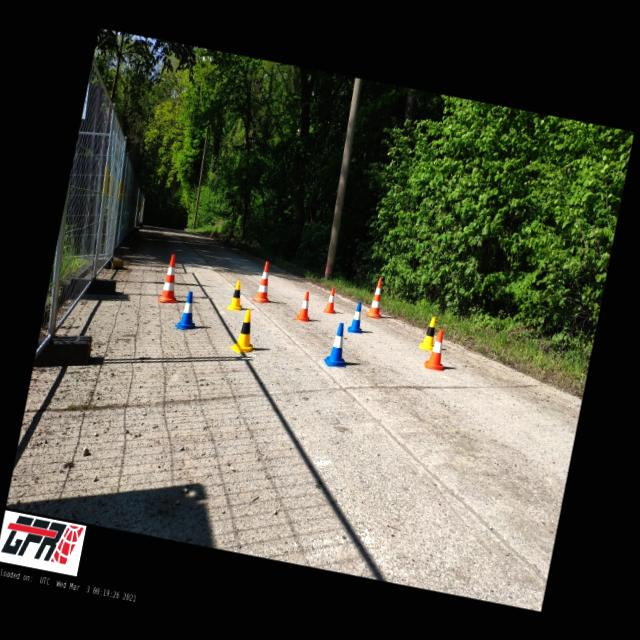blue_cone: (323, 322, 354, 369), (174, 290, 203, 333), (347, 302, 368, 334)
large_orange_cone: (157, 253, 185, 306), (252, 260, 278, 304), (366, 277, 388, 319)
orange_cone: (424, 328, 452, 372), (294, 292, 316, 322), (323, 286, 340, 314)
yellow_cone: (231, 308, 263, 357), (419, 316, 439, 351), (227, 280, 246, 312)
